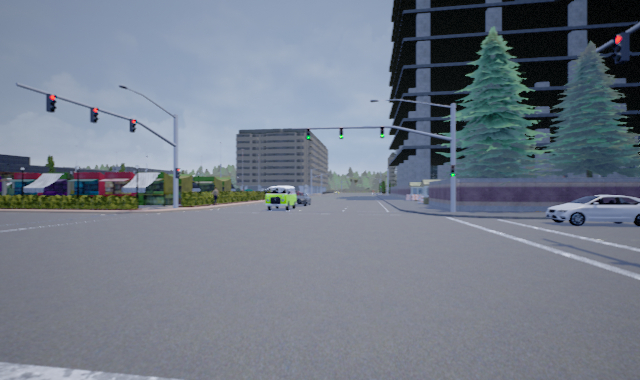pedestrian: (210, 186, 220, 205)
traffic_light: (613, 31, 629, 68), (45, 92, 57, 113), (90, 104, 100, 124), (129, 116, 137, 133), (174, 167, 182, 180), (305, 125, 311, 141), (450, 163, 456, 178), (338, 126, 344, 140), (379, 125, 384, 138)
vehicle: (546, 194, 639, 225), (264, 185, 296, 211), (289, 192, 311, 207)
